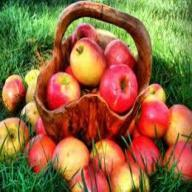apple: (66, 39, 106, 82), (102, 64, 141, 106), (54, 136, 89, 182), (122, 130, 162, 170), (47, 74, 83, 111), (25, 132, 57, 172), (136, 101, 170, 136), (166, 98, 191, 144), (90, 136, 126, 166), (1, 118, 29, 156), (104, 36, 136, 68), (69, 166, 111, 190), (162, 142, 192, 174), (72, 22, 100, 54), (114, 163, 148, 188), (18, 101, 46, 130), (3, 77, 27, 109), (25, 70, 44, 99)
